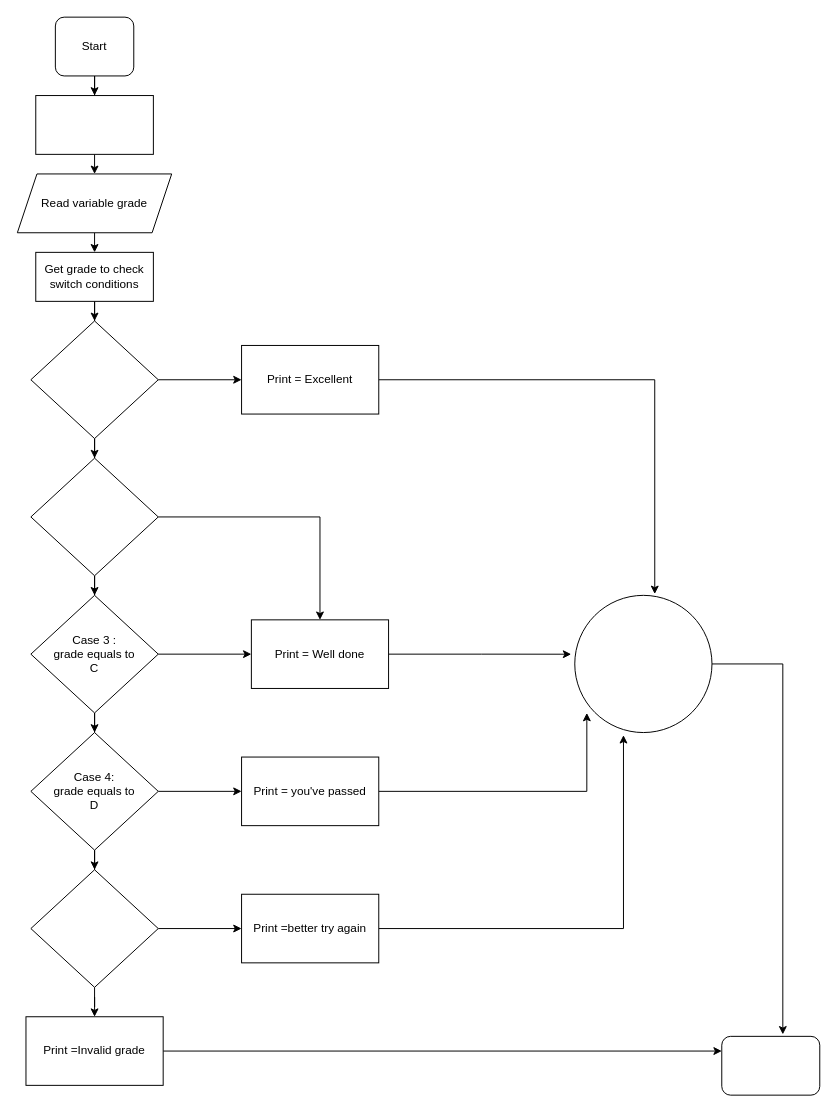
The diagram is 837 pixels wide and 1112 high, and some of its shapes have lost their labels. Each missing label, with the centre of its shape:
Case 1: grade equals to A: pixel 94 379
Case 2: grade equals to B: pixel 94 516
Case 5: grade equals to F: pixel 94 928
Declare variable grade: pixel 94 124
End: pixel 770 1065
